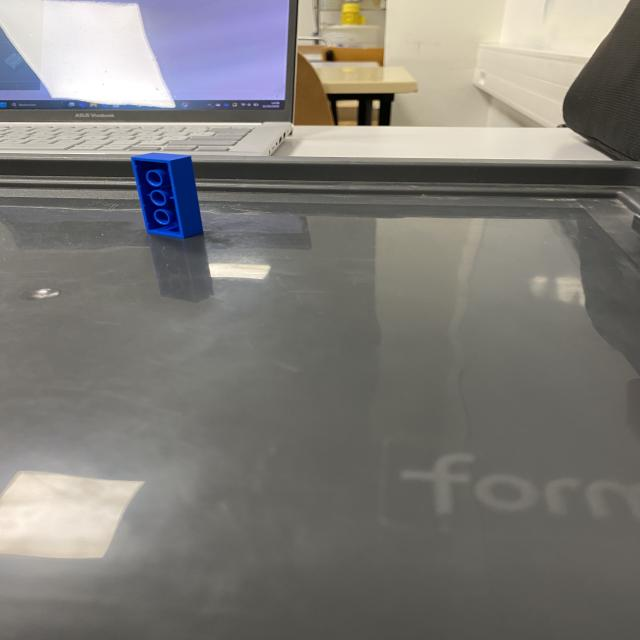C4x2x1: (132, 154, 203, 238)
